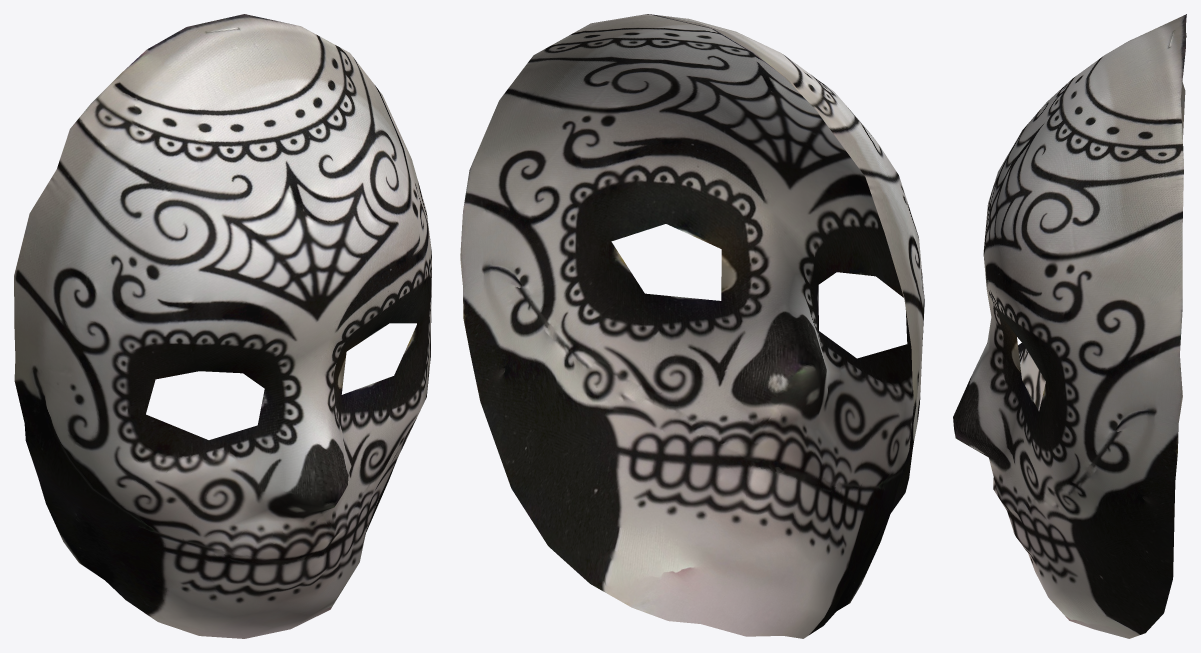
Rendered from day_of_the_dead_spiderweb_mask.glb.
3 views of the same model, side by side, from view 1: azimuth 30°, elevation 25°; view 2: azimuth 150°, elevation 25°; view 3: azimuth 270°, elevation 25° (orthographic). The views are drawn at different scales.
Visible parts, largest first — view 1: geo1; view 2: geo1; view 3: geo1.
Boxes of the visible parts, left/top/right/bottom form: geo1: left=14, top=14, right=431, bottom=638; geo1: left=460, top=14, right=924, bottom=638; geo1: left=953, top=14, right=1186, bottom=638.
Size of the model in its own units: 0.00161 by 0.00221 by 0.000803.
Materials: 1 (1 with a texture image).
